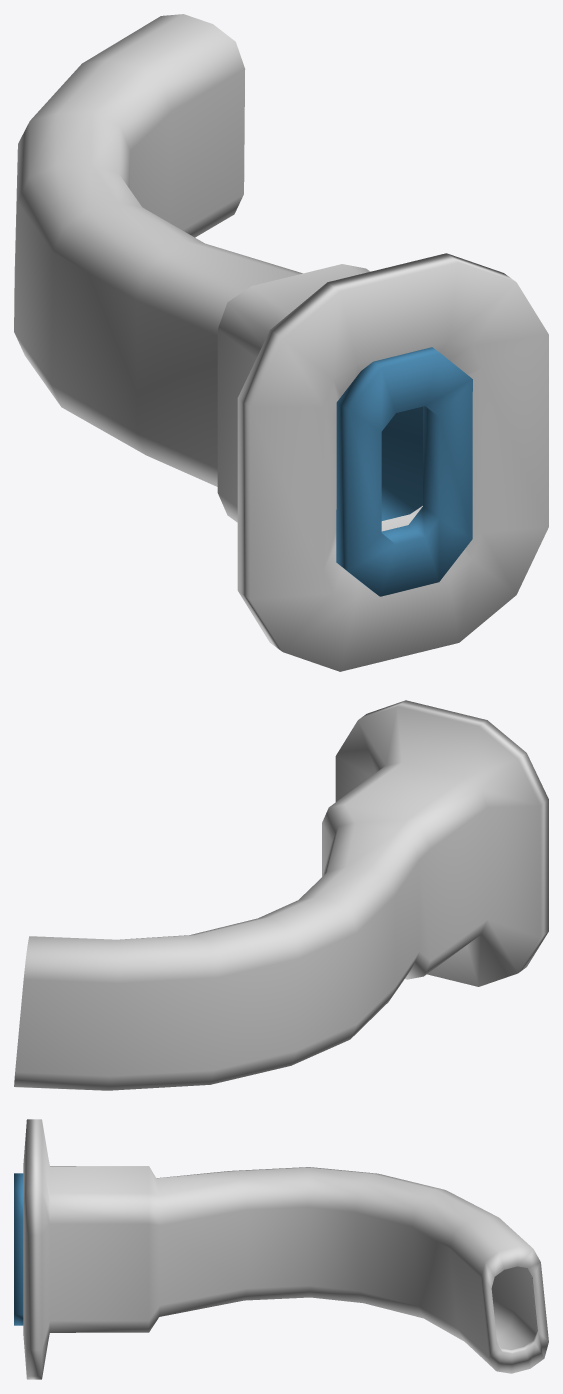
File: Poly(2) Device_2.fbx
3 views of the same model, one above another, from view 1: azimuth 30°, elevation 25°; view 2: azimuth 150°, elevation 25°; view 3: azimuth 270°, elevation 25° (orthographic). The views are drawn at different scales.
Parts seen in each view (by area): view 1: pCube2, pCube3; view 2: pCube2; view 3: pCube2, pCube3.
Part boxes in pixels (<box>): pCube2: <box>14,14,548,671</box>; pCube3: <box>336,347,472,596</box>; pCube2: <box>14,700,548,1090</box>; pCube2: <box>23,1119,548,1379</box>; pCube3: <box>14,1173,23,1325</box>.
Size of the model in its own units: 0.1206 by 0.1145 by 0.2458.
